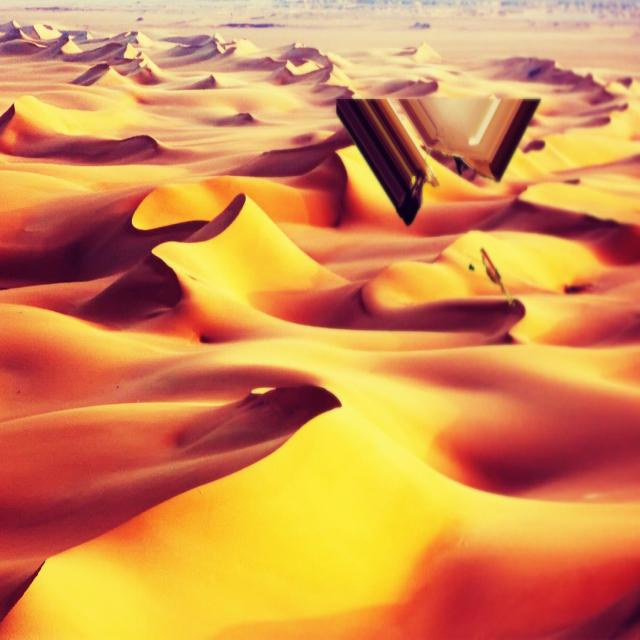airplane: (338, 91, 541, 305)
